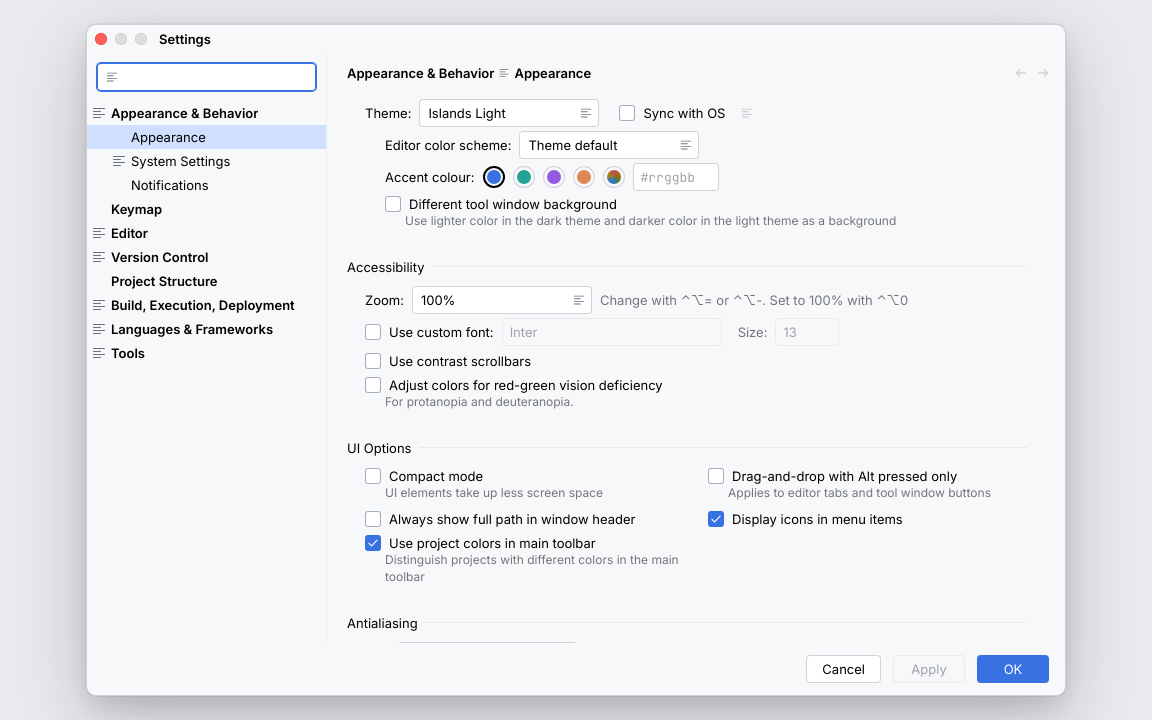
Test case: Settings dialog › searches pages and highlights matching option labels
Type "soft wrap" into the field named "Search settings" at (218, 77), box [125, 63, 312, 91]
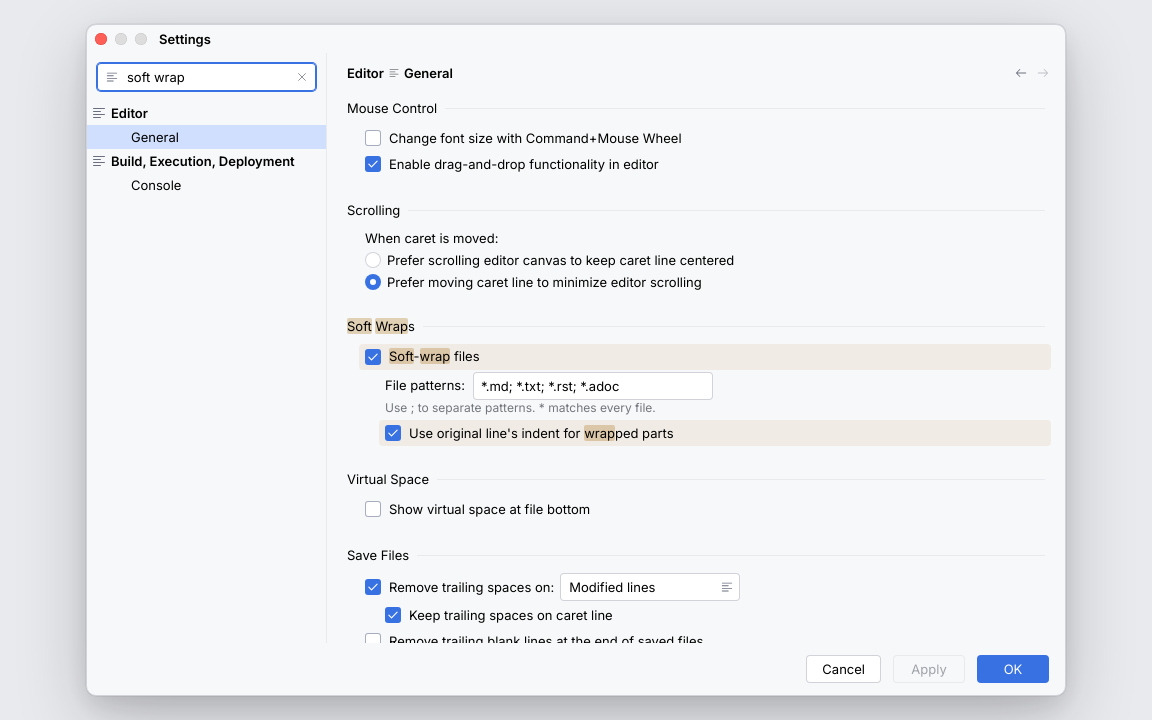
Check: the 2nd text "General" is shown, box [131, 129, 179, 145]
Check: the text "Keymap" is gone
Check: the element "Soft-wrap files" is shown, box [359, 344, 1051, 370]
